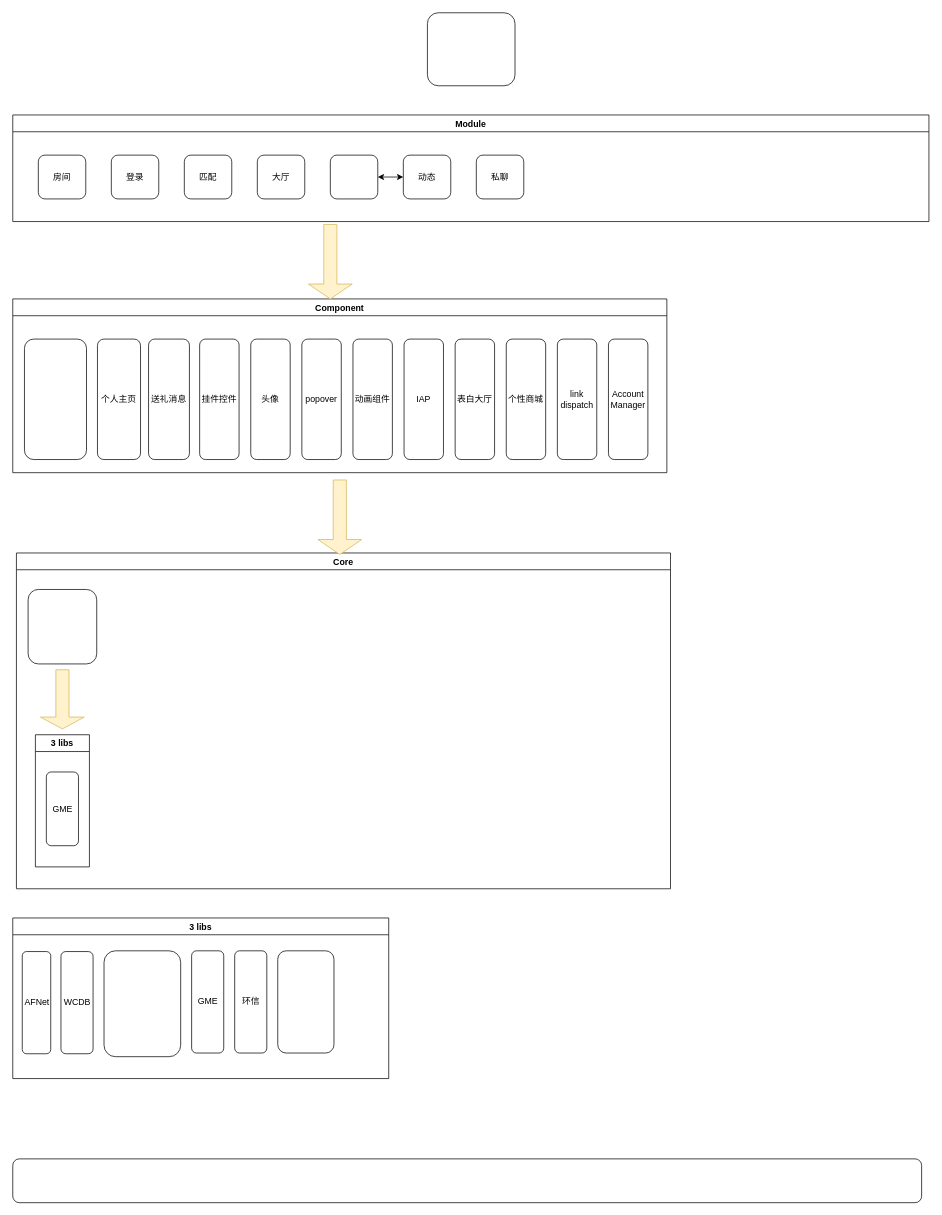
Some shapes in this 942 by 1215 pixel diagram are drawn without their labels. The shapes that lost their labels are listed below. From the top down, each one's centre as x and y in pixels, then its label:
the point at 471,49: 蜜趣
the point at 354,176: 商城
the point at 55,399: 图片选择器（拍照+照片）
the point at 62,626: 语音服务中间层
the point at 142,1003: SwiftyUserDefault
the point at 305,1001: SVProgress
the point at 467,1180: iOS
